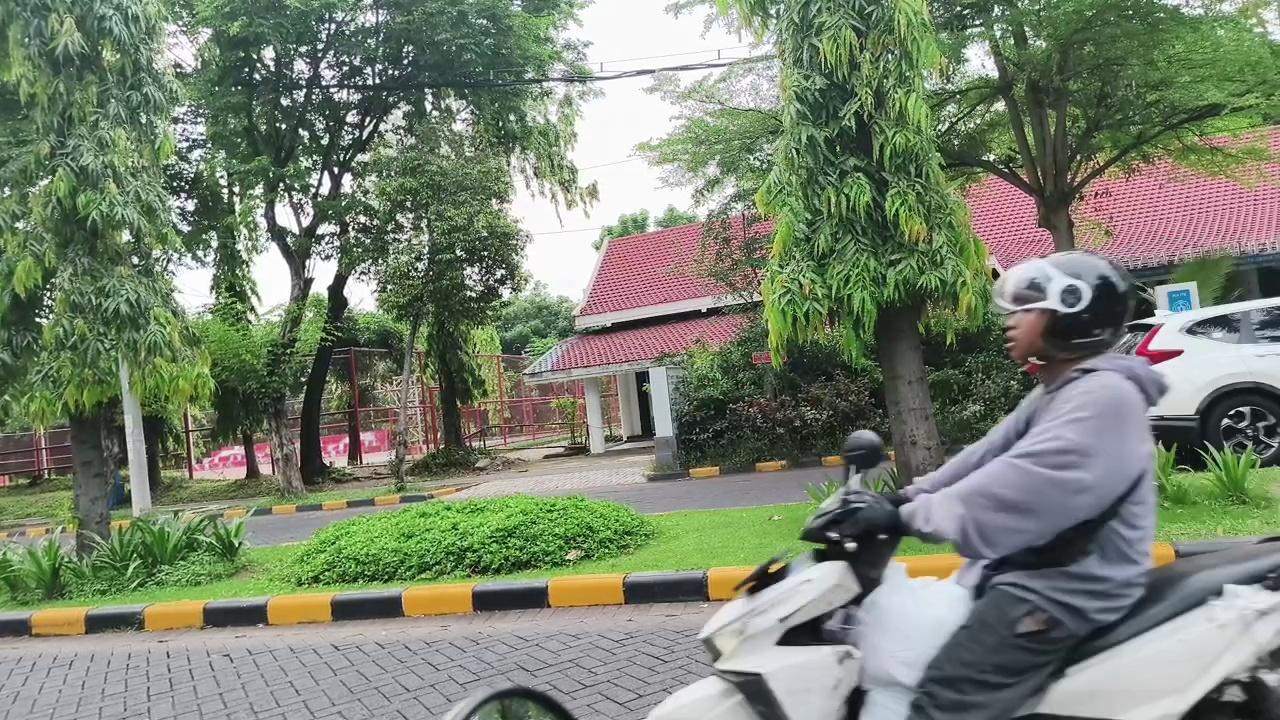Helmet: (855, 251, 1165, 719)
Motor: (648, 431, 899, 719)
